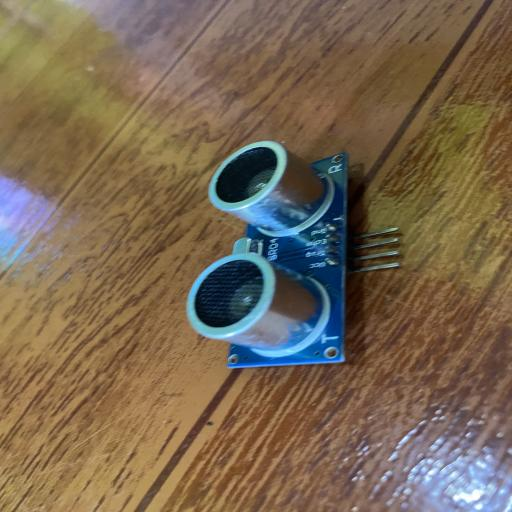Ultrasonic Sensor: (185, 140, 402, 370)
